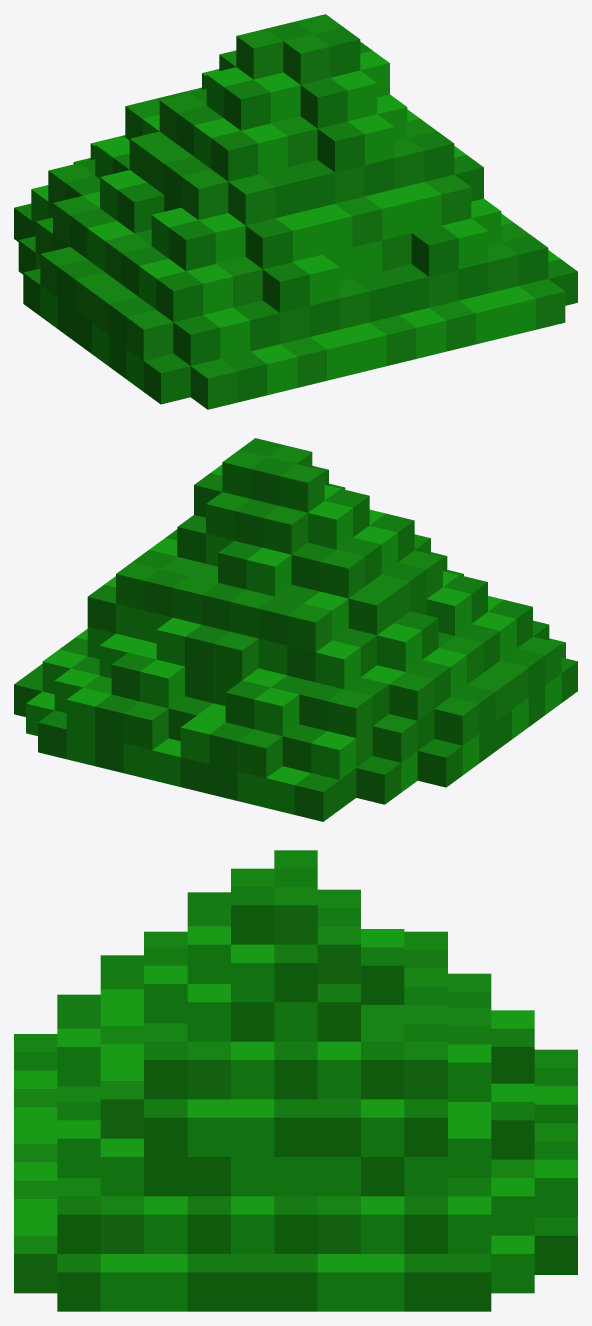
File: Plants-6.obj
3 views of the same model, one above another, from view 1: azimuth 30°, elevation 25°; view 2: azimuth 150°, elevation 25°; view 3: azimuth 270°, elevation 25° (orthographic). The views are drawn at different scales.
Size of the model in its own units: 1.4 by 0.8 by 1.3.
1 material, 1 textured.
